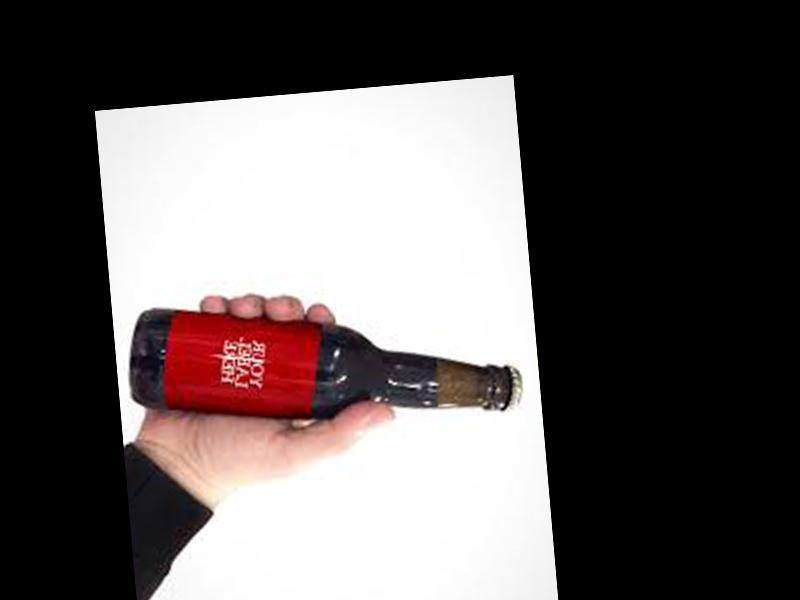Beer: (124, 276, 526, 445)
